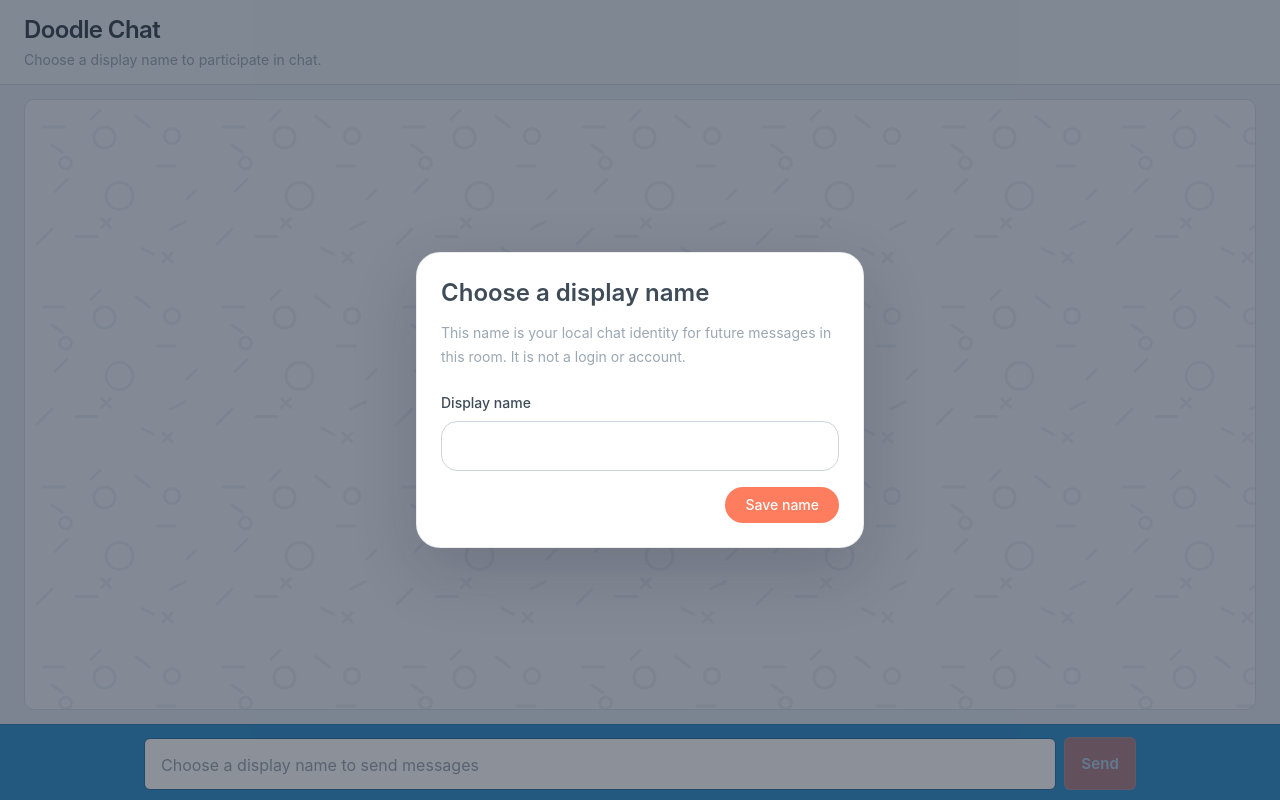
DisplayNameDialog › allows saving a name and editing later
Type "Awais" into the field labelled "Display name".
click(640, 446); type("Awais")  # box [441,421,839,471]
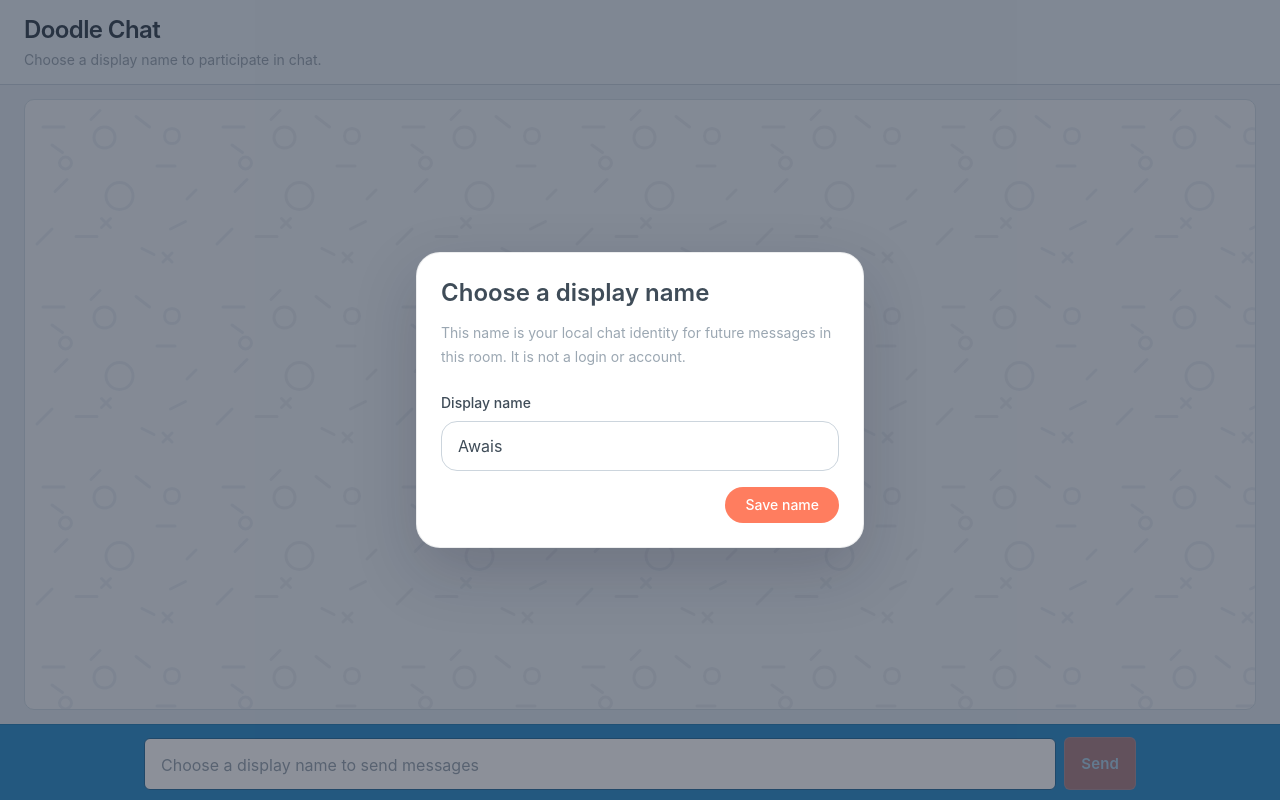
Click the button "Save name".
click(782, 505)  # box [726,487,839,523]
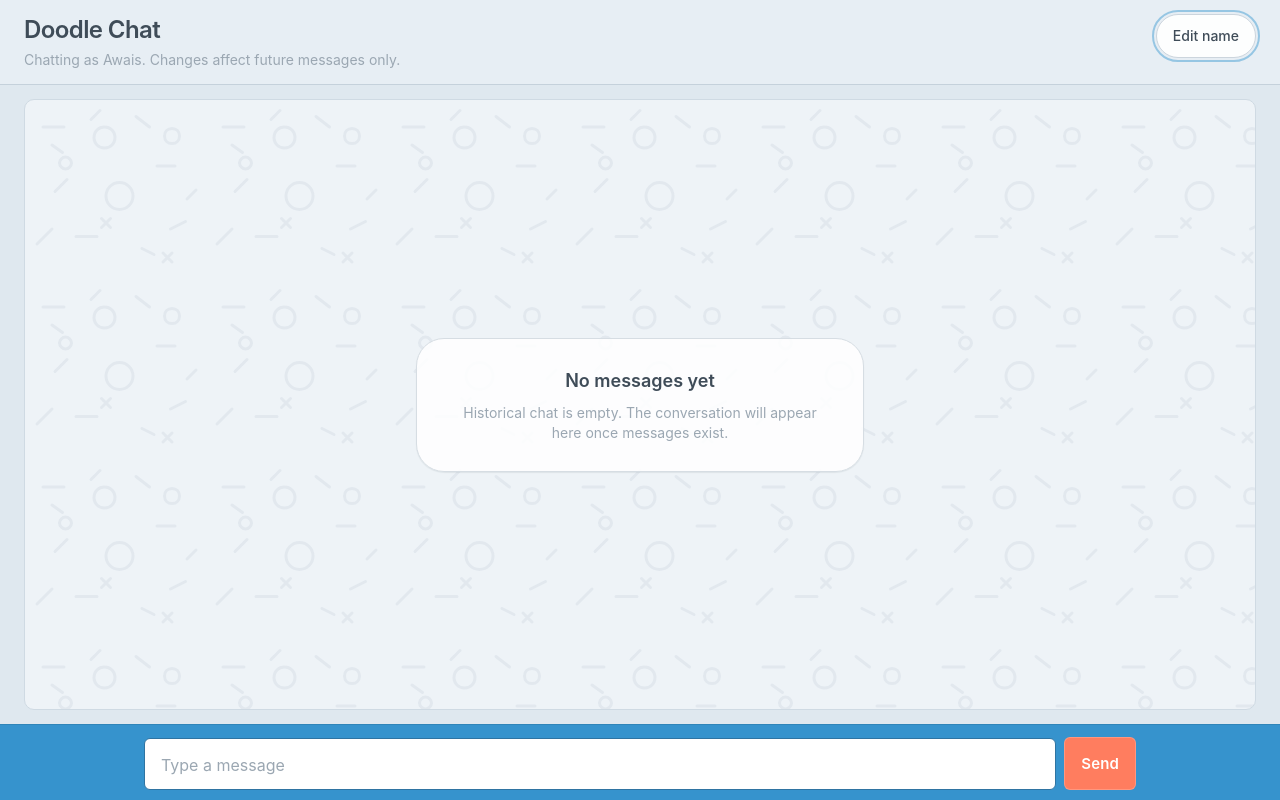
expect the button "Edit name" is shown: met, box [1156,14,1256,58]
expect the text "Chatting as Awais. Changes affect future messages only." is shown: met, box [24,50,400,70]
